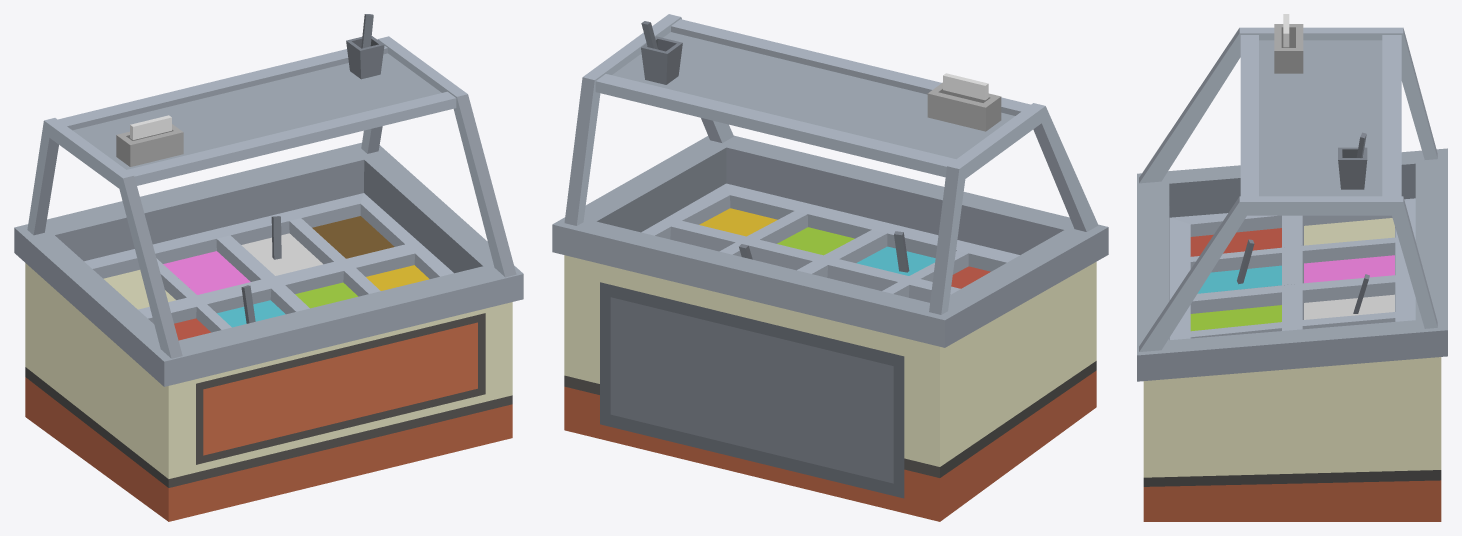
The model's file is IceCreamCounter.glb.
3 renders of one model, left to right at view 1: azimuth 30°, elevation 25°; view 2: azimuth 150°, elevation 25°; view 3: azimuth 270°, elevation 25°, orthographic. The views are drawn at different scales.
Visible parts, largest first — view 1: SI_Prop_IceCreamCounter_01; view 2: SI_Prop_IceCreamCounter_01; view 3: SI_Prop_IceCreamCounter_01.
Boxes of the visible parts, bbox=[...] form: SI_Prop_IceCreamCounter_01: bbox=[14, 14, 523, 521]; SI_Prop_IceCreamCounter_01: bbox=[552, 14, 1108, 521]; SI_Prop_IceCreamCounter_01: bbox=[1137, 14, 1447, 521].
Bounding box in the file's own units: 0.0303 × 0.0287 × 0.0219.
Materials: 1 (1 with a texture image).
